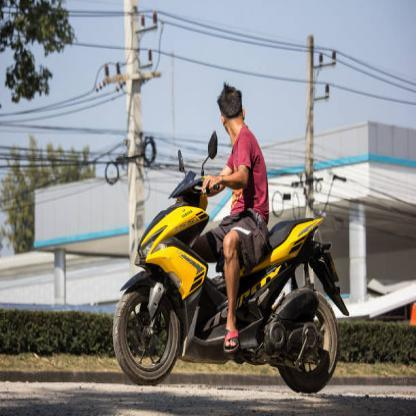Motorcycle: (106, 144, 347, 395)
